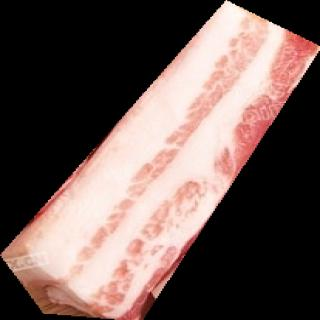pork: (0, 0, 320, 320)
